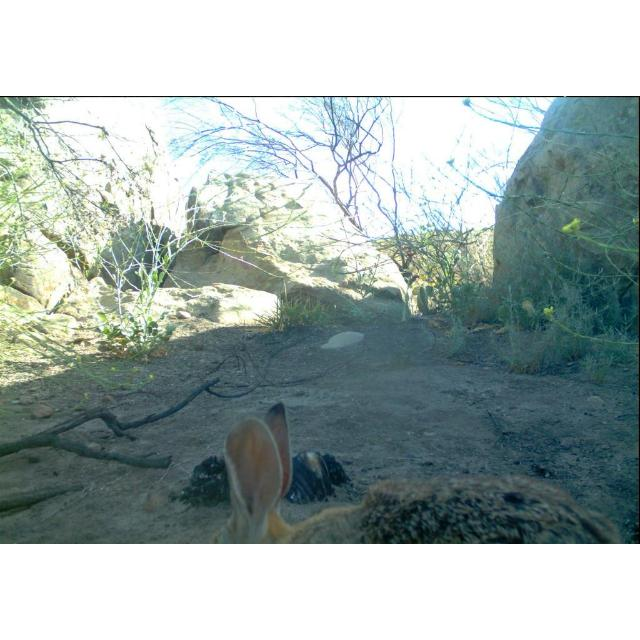animals: (203, 400, 634, 544)
